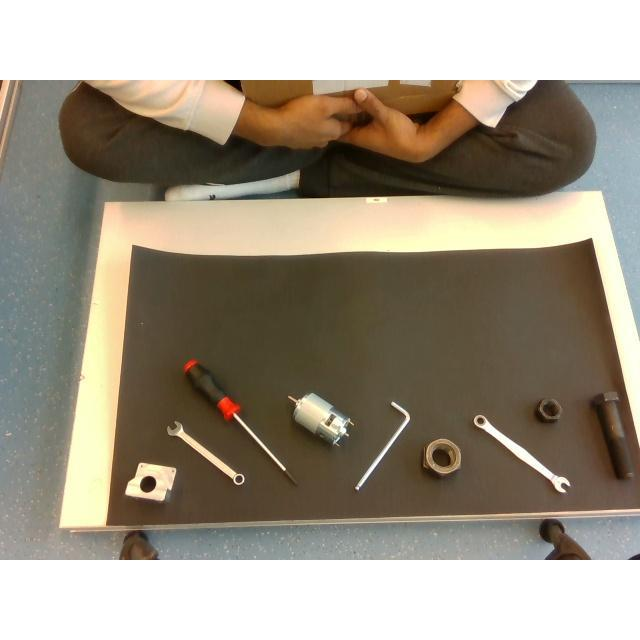M20: (536, 398, 562, 422)
M20_100: (592, 390, 634, 478)
M30: (422, 438, 460, 474)
Motor2: (290, 392, 354, 443)
Wrench: (474, 416, 570, 492)
